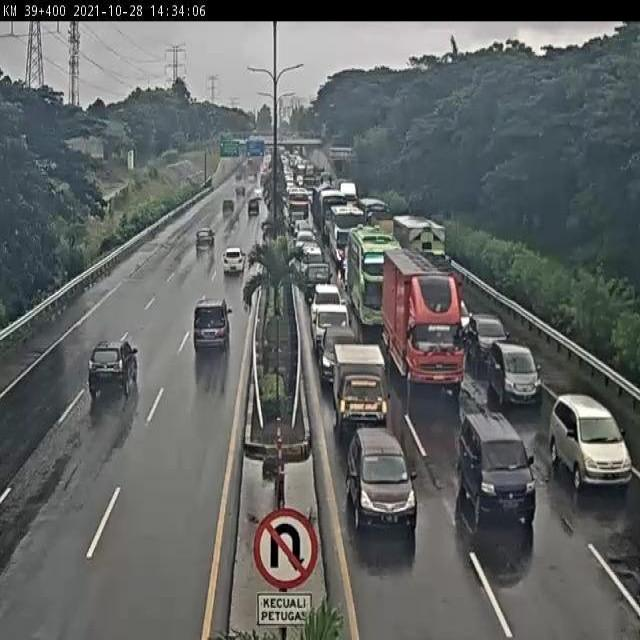bus-l-: (348, 228, 401, 329), (331, 206, 371, 262)
car: (447, 414, 537, 530), (548, 393, 632, 491), (343, 427, 419, 532), (331, 336, 388, 423), (486, 336, 542, 403), (87, 340, 141, 397), (193, 299, 234, 357), (320, 331, 361, 386), (313, 303, 352, 357), (466, 313, 508, 360), (298, 258, 330, 298), (307, 283, 346, 308), (447, 293, 470, 335), (296, 238, 320, 266)
truck-l-: (380, 247, 459, 393), (392, 212, 456, 284)
